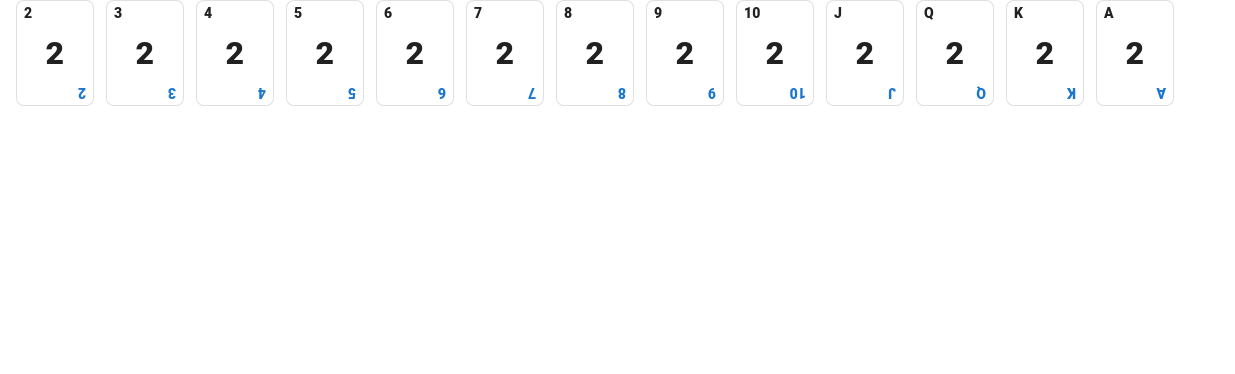
Test case: CardInventory component › shows suit tooltip when hovering over a card column
This screenshot has width=1235, height=374.
Hover over the 1st text "A".
mouse_move(1109, 13)  # box [1104,5,1114,21]
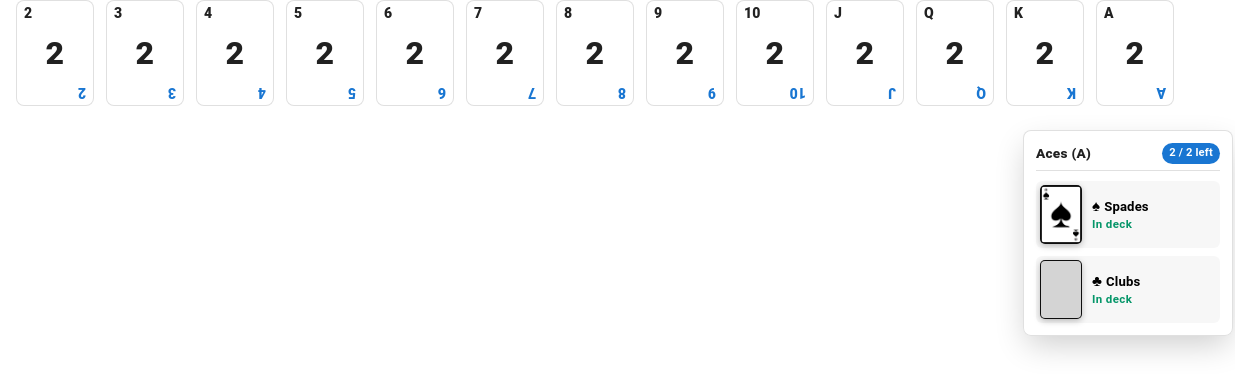
Expected: the element with test id "card-suit-tooltip-14" is shown, [1023,130,1233,336]
Expected: the heading "Aces (A)" is shown, [1036,143,1091,164]
